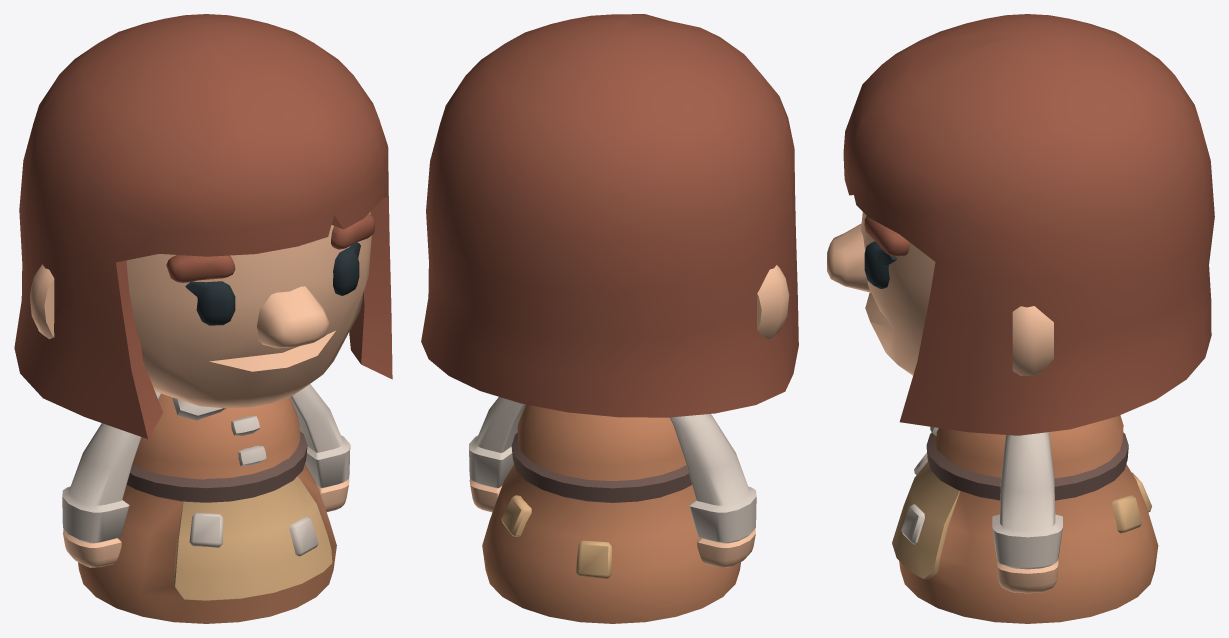
The model's file is character_villager_female2.gltf.
The picture shows the model from 3 angles, left to right: view 1: azimuth 30°, elevation 25°; view 2: azimuth 150°, elevation 25°; view 3: azimuth 270°, elevation 25°; orthographic projection.
Visible parts, largest first — view 1: character_villager_female2_head, character_villager_female2_body, character_villager_female2_armRight, character_villager_female2_armLeft; view 2: character_villager_female2_head, character_villager_female2_body, character_villager_female2_armRight, character_villager_female2_armLeft; view 3: character_villager_female2_head, character_villager_female2_body, character_villager_female2_armLeft.
Part boxes in pixels (<box>): character_villager_female2_head: <box>14,14,392,438</box>; character_villager_female2_body: <box>78,393,336,623</box>; character_villager_female2_armRight: <box>62,391,160,567</box>; character_villager_female2_armLeft: <box>290,384,350,511</box>; character_villager_female2_head: <box>421,14,798,417</box>; character_villager_female2_body: <box>482,404,740,623</box>; character_villager_female2_armRight: <box>670,414,756,567</box>; character_villager_female2_armLeft: <box>469,397,525,512</box>; character_villager_female2_head: <box>827,14,1214,435</box>; character_villager_female2_body: <box>892,415,1158,623</box>; character_villager_female2_armLeft: <box>992,432,1062,593</box>.
Size of the model in its own units: 1.18 by 1.78 by 1.14.
